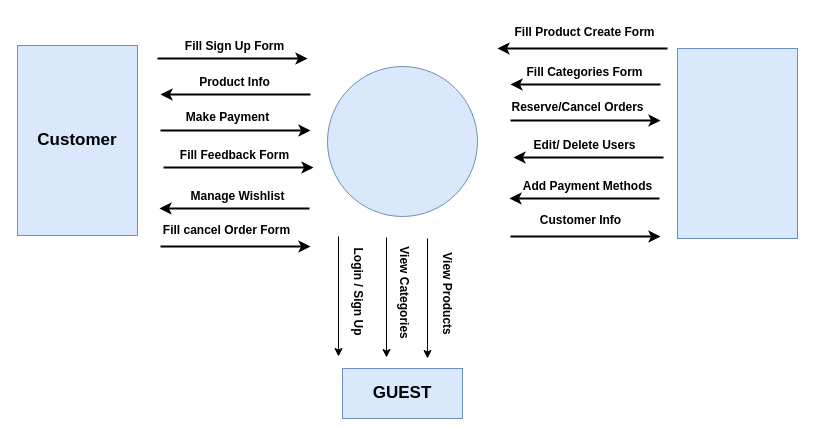
Image size: 815x436. Some labels were removed from this diagram. Each missing label, with the centre of its shape:
ADMIN: the point at 737,143
Sell It Now.: the point at 402,141
